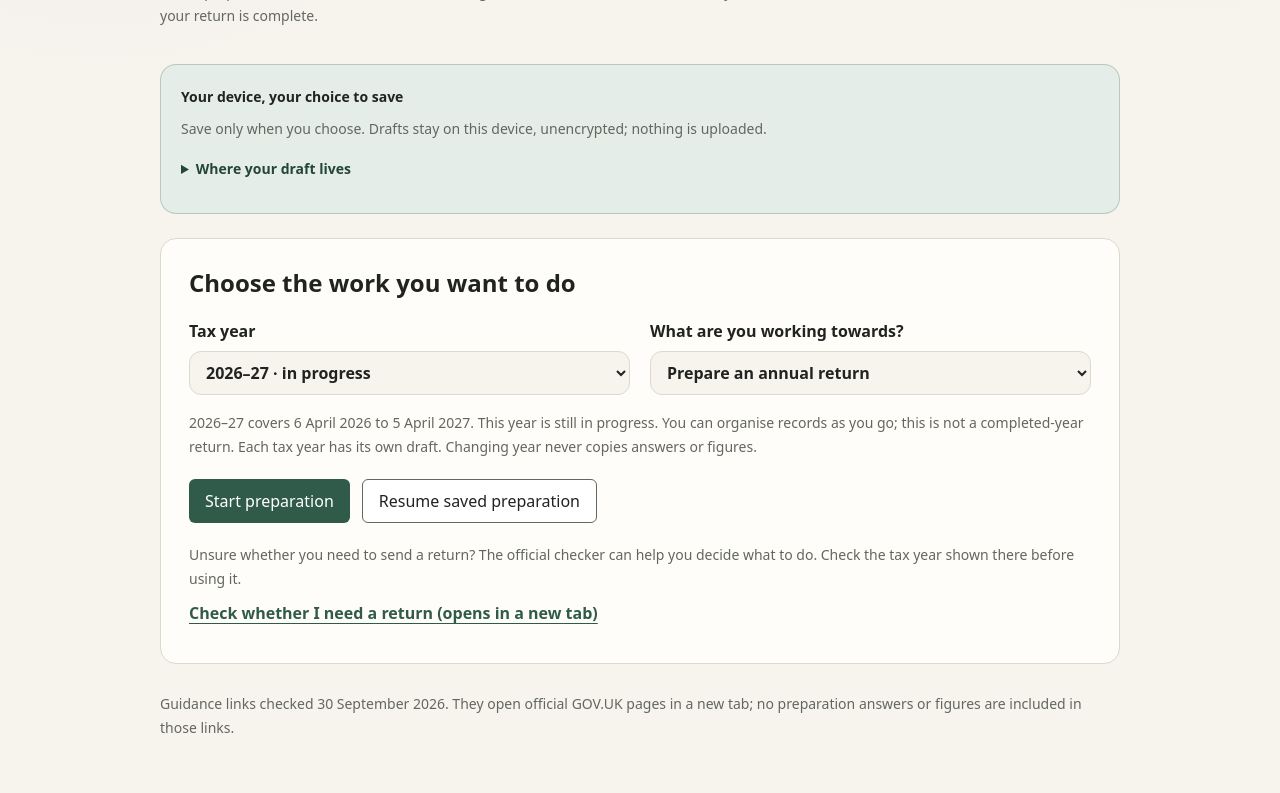
guided return preparation › starts an empty preparation with circumstances even through a tasks link
(page scrolled)
Click the button "Start preparation".
click(269, 501)  # box [189,479,350,523]
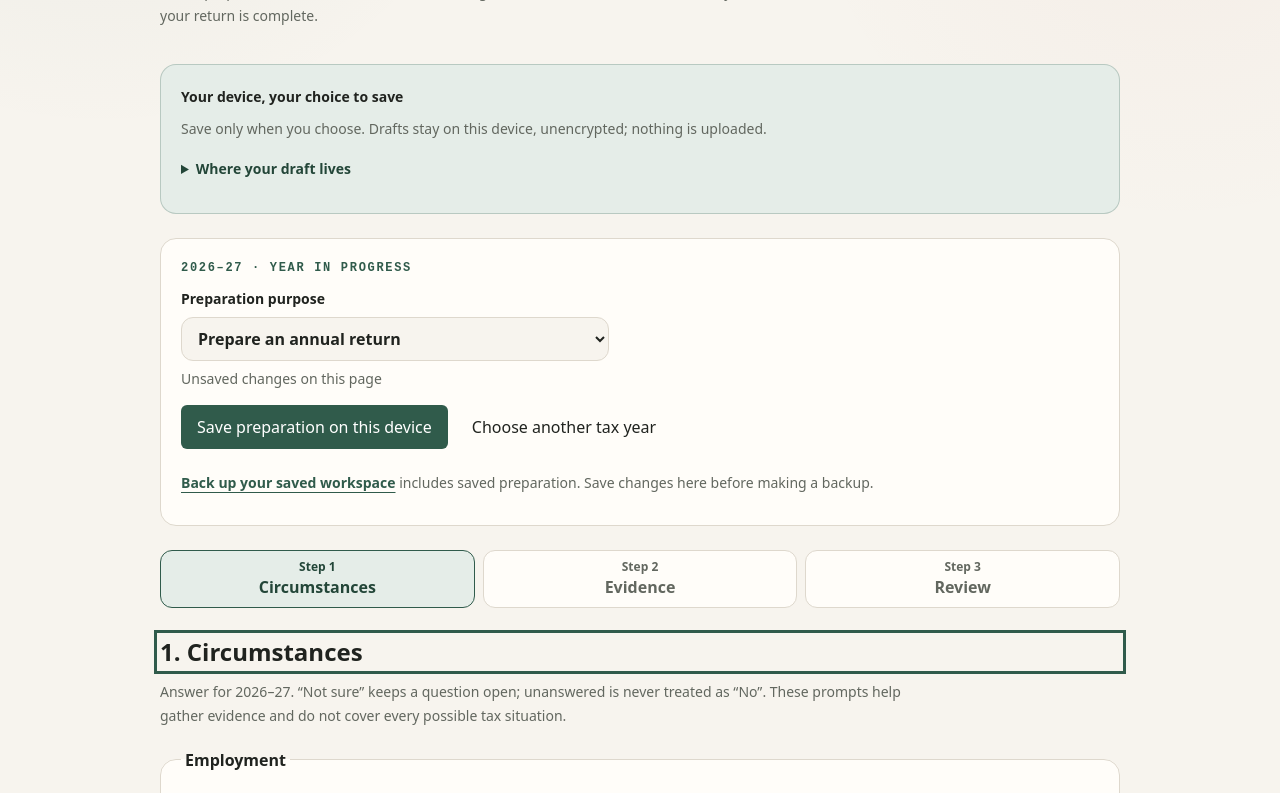
Result: the heading "1. Circumstances" is shown at [160,635,363,668]
